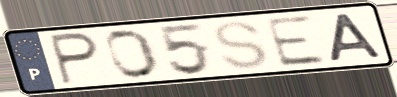5: (153, 21, 216, 77)
A: (328, 11, 387, 64)
E: (262, 13, 330, 69)
O: (103, 27, 162, 81)
P: (47, 30, 102, 87)
S: (211, 19, 272, 71)
